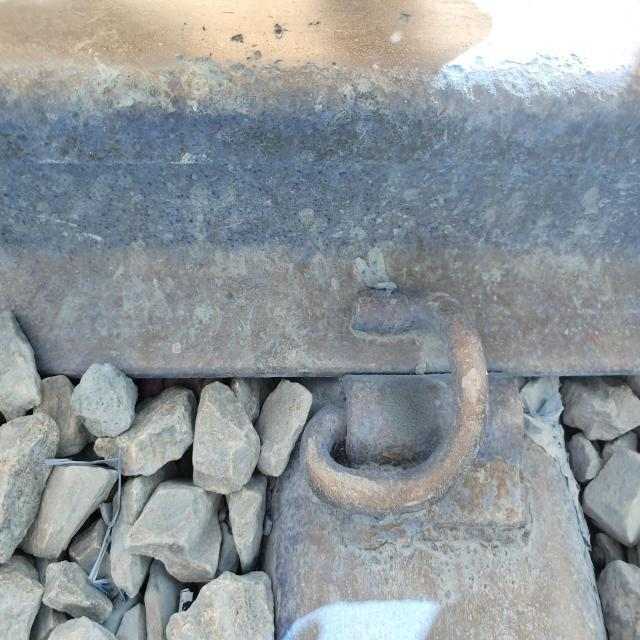Good Fasteners: (271, 288, 537, 543)
